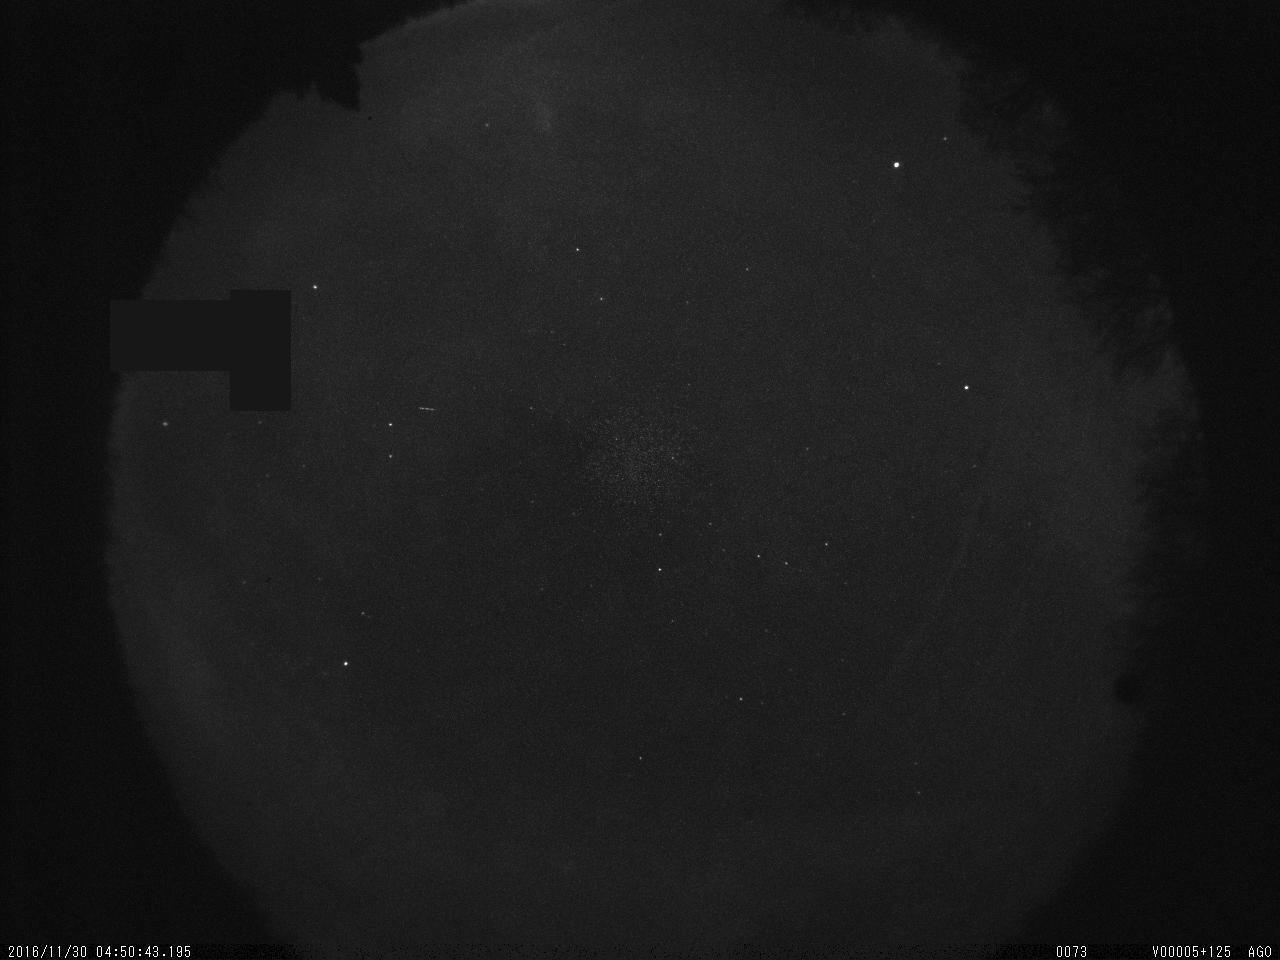Meteor: (412, 399, 444, 417)
